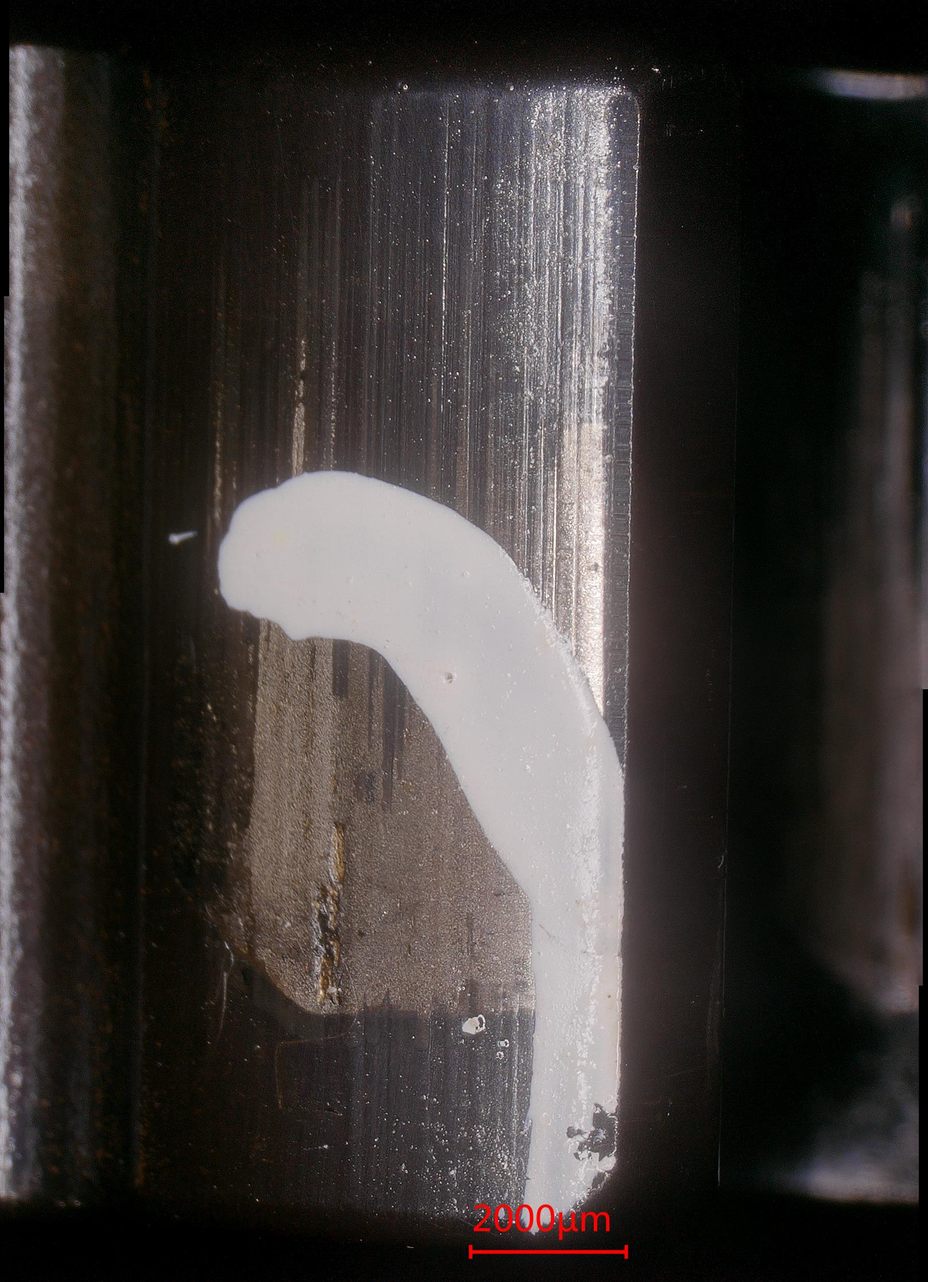Abrasion: (116, 69, 621, 1221)
